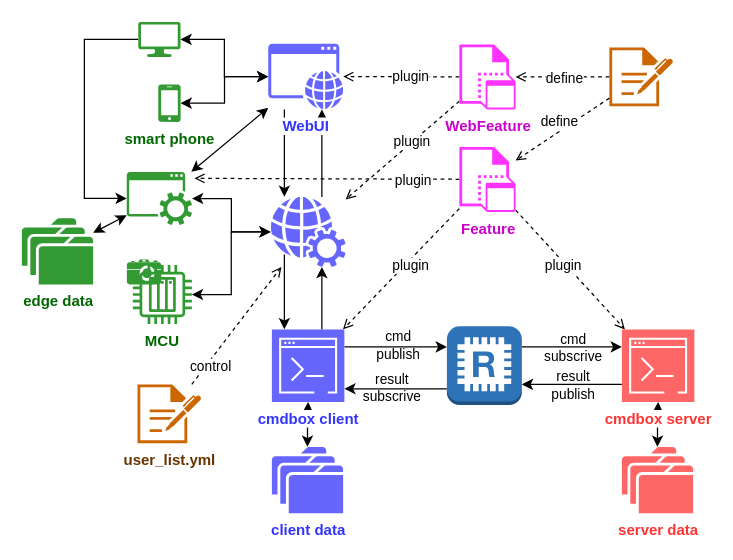
Some shapes in this 733 by 560 pixel diagram are drawn without their labels. Here are the shapes that lost their labels. From the top down, the box of each, then its label:
(138, 21, 180, 56): PC
(609, 47, 672, 106): features.yml
(126, 171, 191, 224): EdgeApp
(270, 196, 345, 266): WebAPI
(446, 325, 522, 405): Redis
